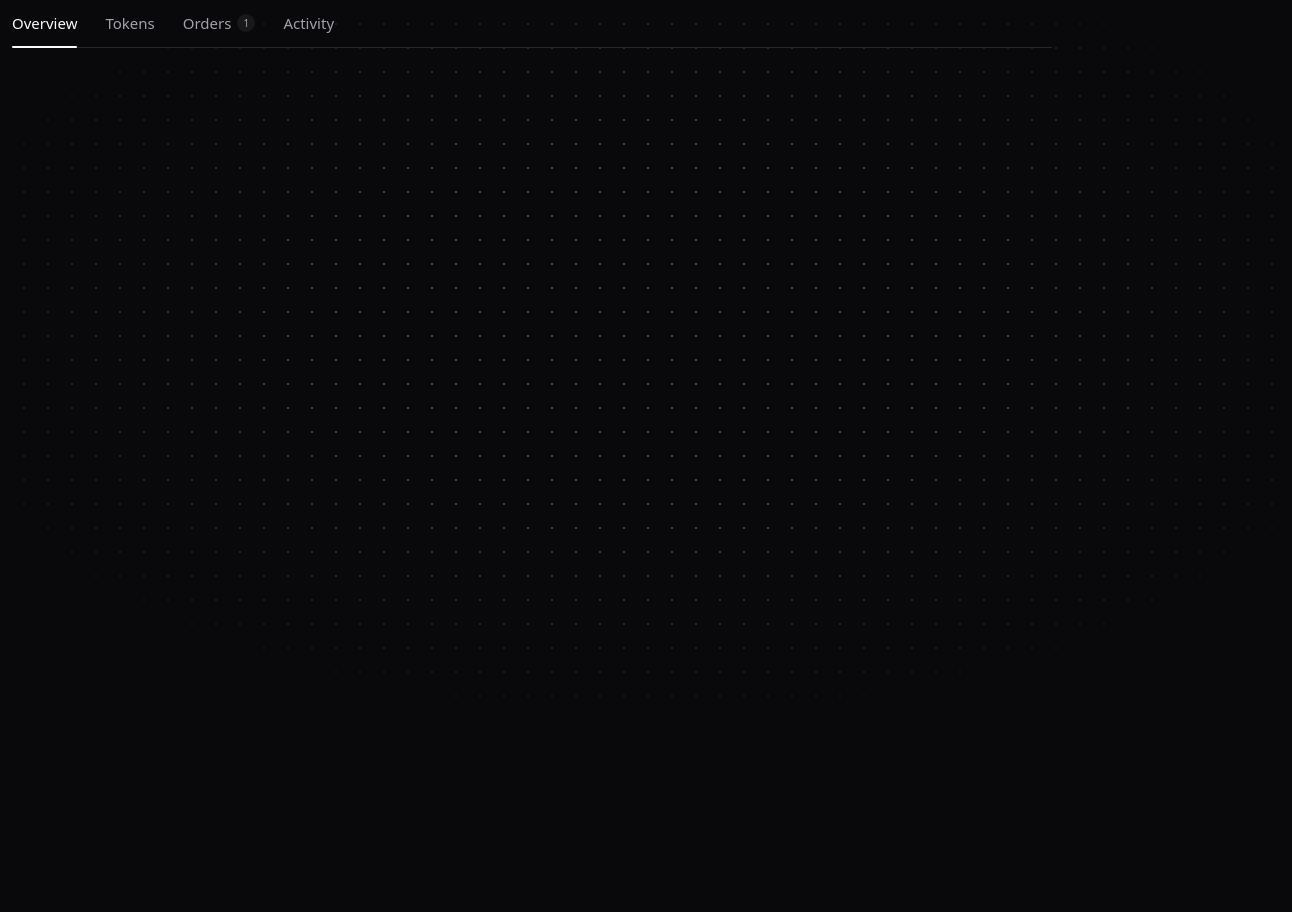
it: keeps a partially executed same-transaction order and its fill
The width and height of the screenshot is (1292, 912).
Click the tab "Activity" at coordinates (309, 29), box [283, 12, 334, 46]
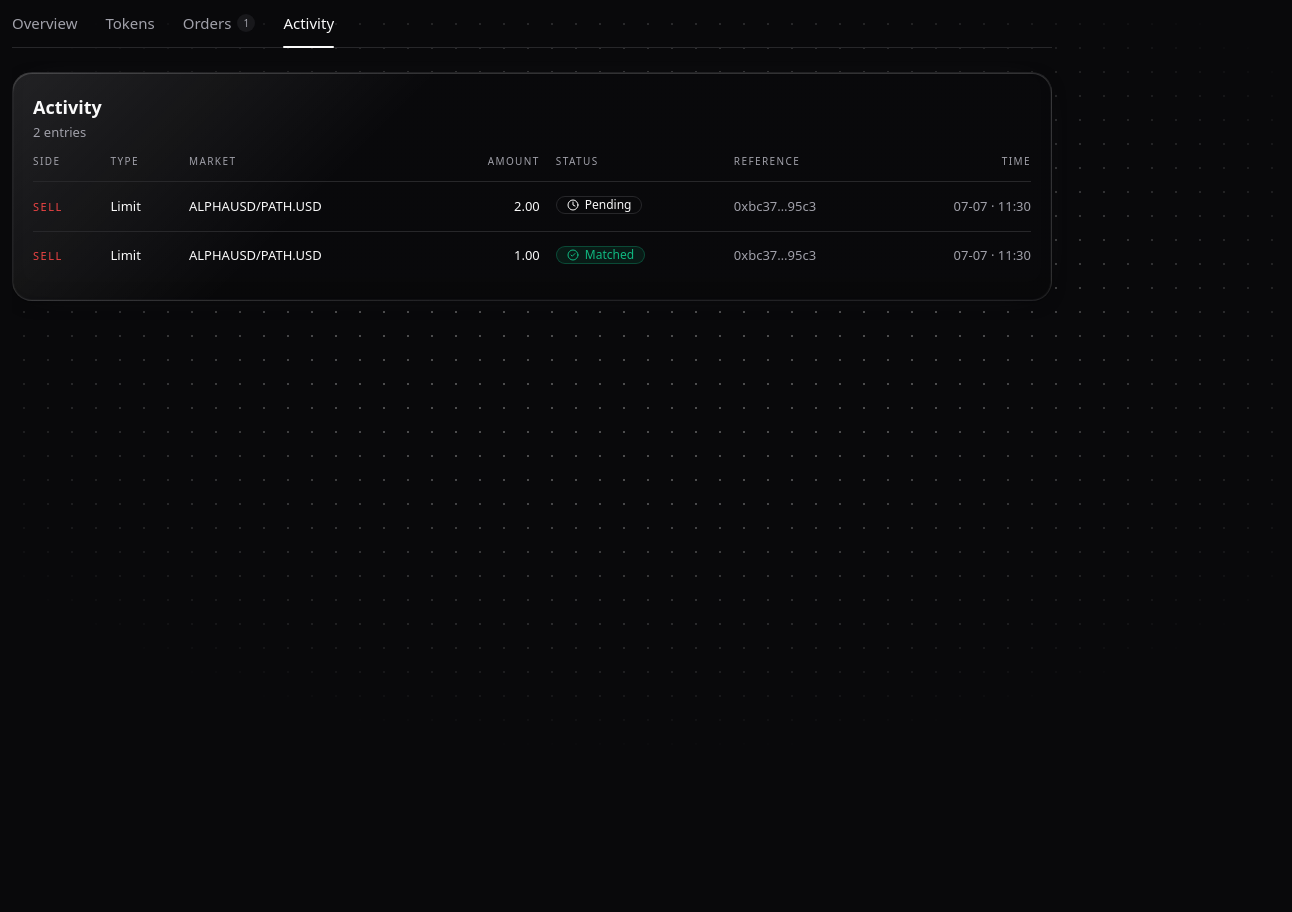
Check: the text "2 entries" is shown, box [33, 122, 86, 140]
Check: the text "ALPHAUSD/PATH.USD" is shown 2 times, box [189, 182, 440, 231]; [189, 231, 440, 280]
Check: the text "Pending" is shown, box [585, 199, 632, 211]
